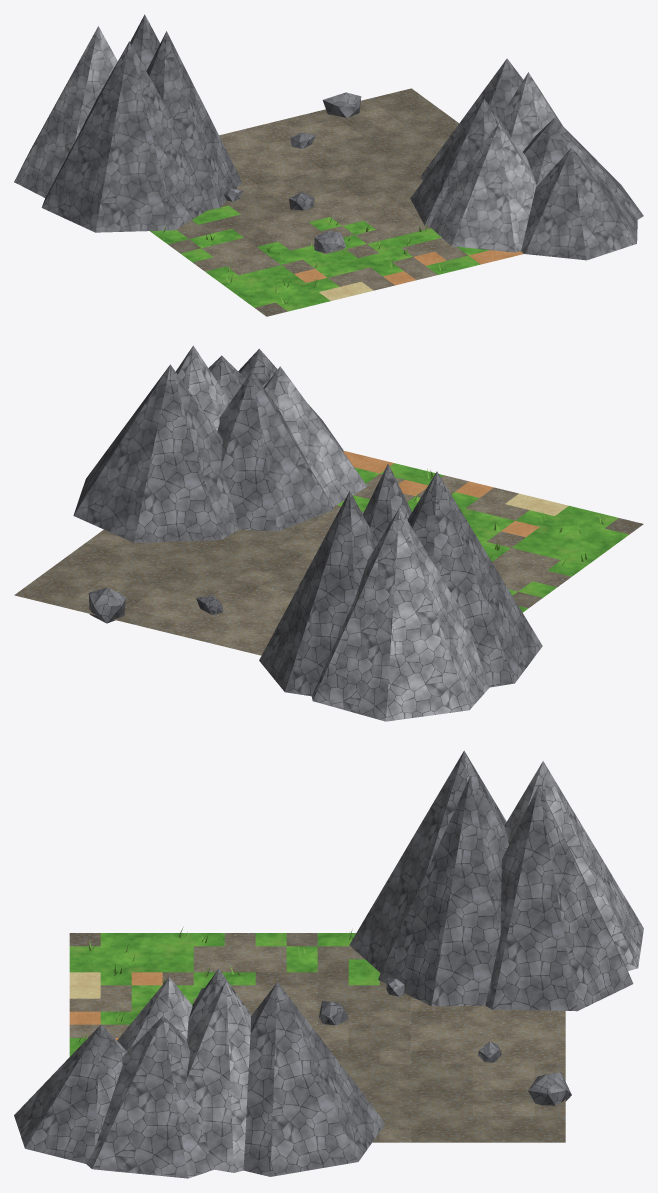
The model's file is chunk_8_19.glb.
3 views of the same model, one above another, from view 1: azimuth 30°, elevation 25°; view 2: azimuth 150°, elevation 25°; view 3: azimuth 270°, elevation 25° (orthographic). The views are drawn at different scales.
Parts seen in each view (by area): view 1: chunk_8_19; view 2: chunk_8_19; view 3: chunk_8_19.
Part boxes in pixels (bbox=[...]): chunk_8_19: bbox=[14, 14, 643, 316]; chunk_8_19: bbox=[14, 345, 643, 721]; chunk_8_19: bbox=[14, 750, 643, 1178].
Size of the model in its own units: 21.41 by 7.38 by 20.33.
Materials: 8 (7 with a texture image).
